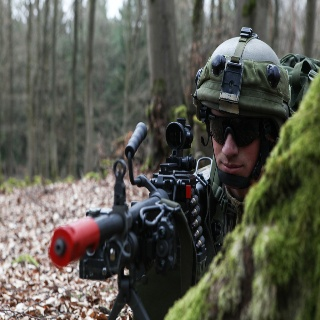rifle: (49, 119, 223, 320)
